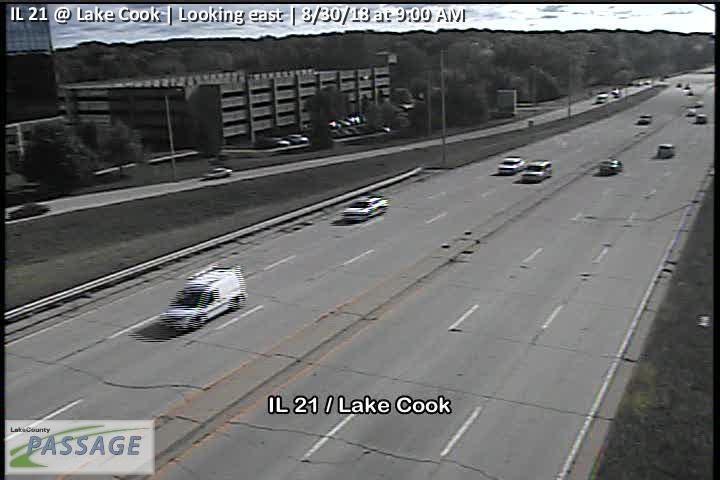SUV: (158, 263, 248, 331), (520, 159, 553, 182), (656, 143, 675, 158)
Sedan: (341, 195, 388, 221), (8, 203, 51, 220), (497, 156, 525, 173), (599, 158, 623, 175), (201, 166, 232, 179)
